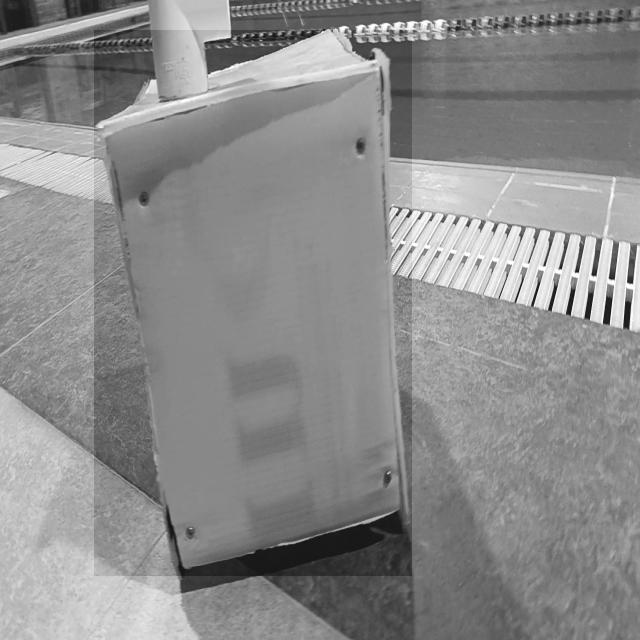Cube: (94, 30, 412, 576)
